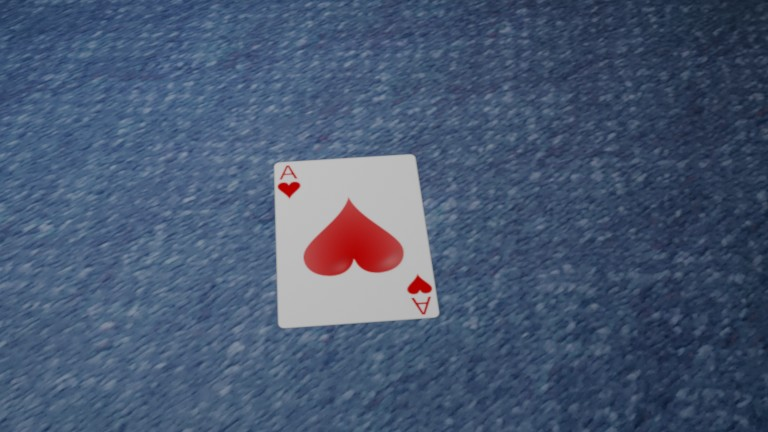ace_of_hearts: (403, 273, 438, 317), (275, 164, 303, 200)
